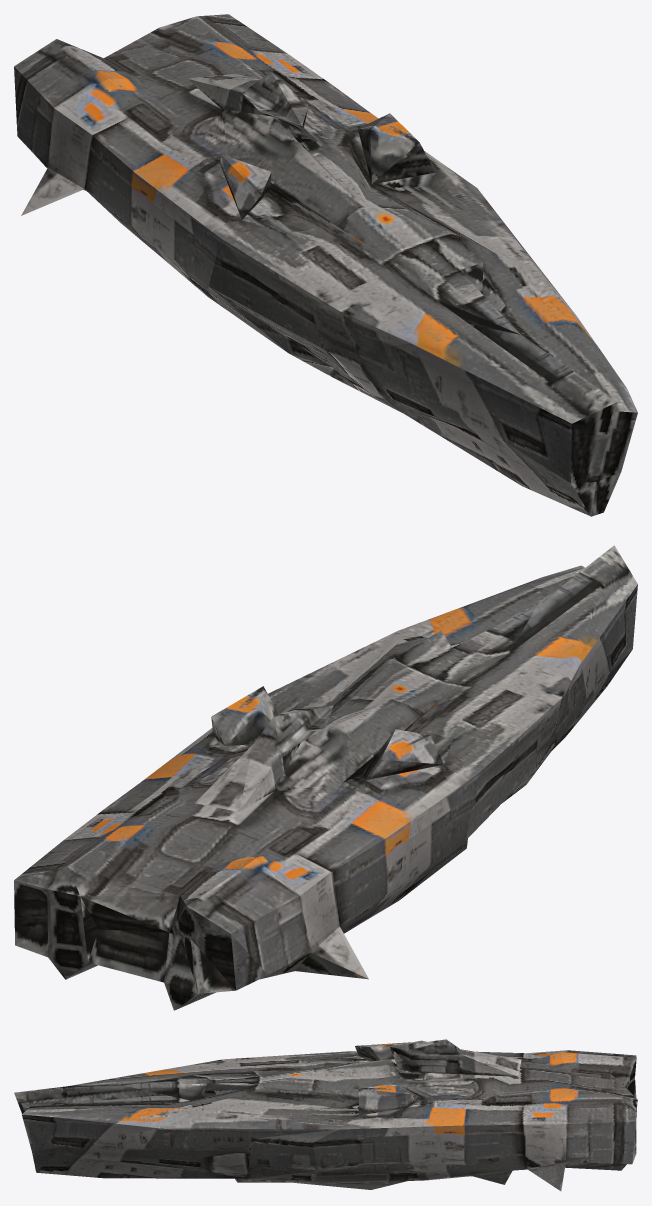
File: hard-300.glb
The picture shows the model from 3 angles, top to bottom: view 1: azimuth 30°, elevation 25°; view 2: azimuth 150°, elevation 25°; view 3: azimuth 270°, elevation 25°; orthographic projection. The views are drawn at different scales.
Visible parts, largest first — view 1: Low; view 2: Low; view 3: Low.
Part boxes in pixels (x1=…): Low: x1=14, y1=14, x2=637, y2=516; Low: x1=14, y1=545, x2=637, y2=1010; Low: x1=14, y1=1039, x2=637, y2=1191.
Size of the model in its own units: 0.3855 by 0.2394 by 0.9779.
Materials: 1 (1 with a texture image).
